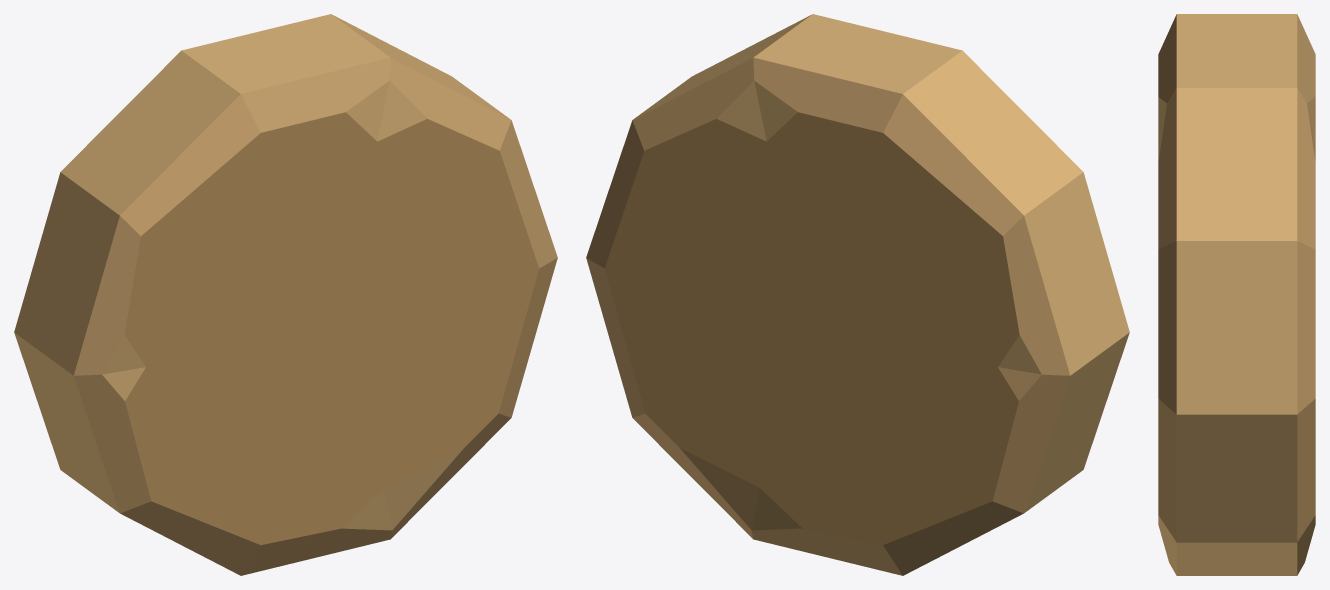
The model's file is ST_Env_Doorway_RollingDoor_01.fbx.
3 views of the same model, side by side, from view 1: azimuth 30°, elevation 25°; view 2: azimuth 150°, elevation 25°; view 3: azimuth 270°, elevation 25° (orthographic).
Visible parts, largest first — view 1: ST_Env_Doorway_RollingDoor_01; view 2: ST_Env_Doorway_RollingDoor_01; view 3: ST_Env_Doorway_RollingDoor_01.
Part boxes in pixels (bbox=[...]): ST_Env_Doorway_RollingDoor_01: bbox=[14, 14, 557, 575]; ST_Env_Doorway_RollingDoor_01: bbox=[586, 14, 1129, 575]; ST_Env_Doorway_RollingDoor_01: bbox=[1158, 14, 1315, 575].
Bounding box in the file's own units: 5.78 × 5.5 × 1.61.
